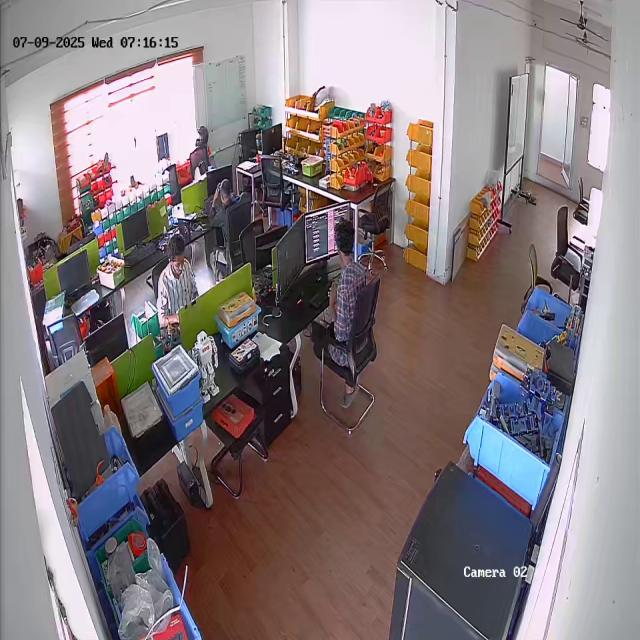person: (320, 218, 370, 398), (157, 232, 200, 333), (209, 177, 244, 264)
